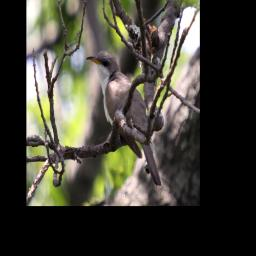Cuckoo: (85, 47, 162, 191)
